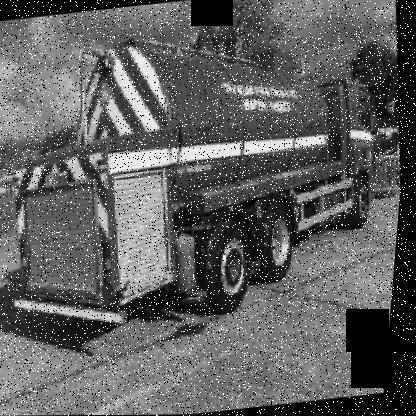emergency: (0, 0, 400, 358)
